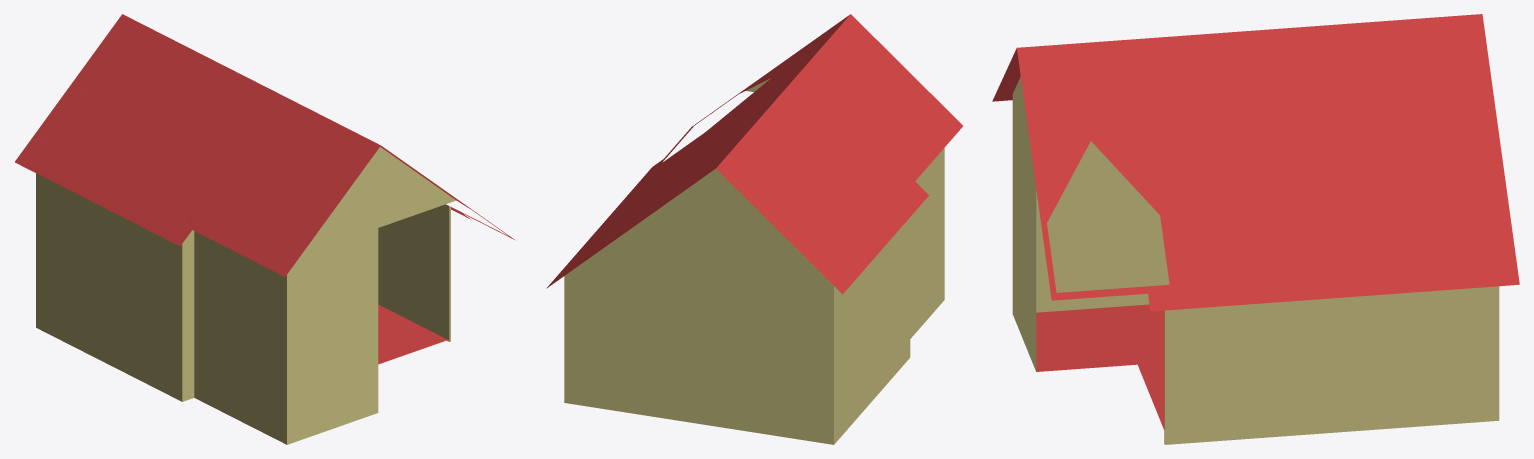
3 renders of one model, left to right at view 1: azimuth 30°, elevation 25°; view 2: azimuth 150°, elevation 25°; view 3: azimuth 270°, elevation 25°, orthographic. The views are drawn at different scales.
Size of the model in its own units: 18.67 by 22.17 by 14.89.
